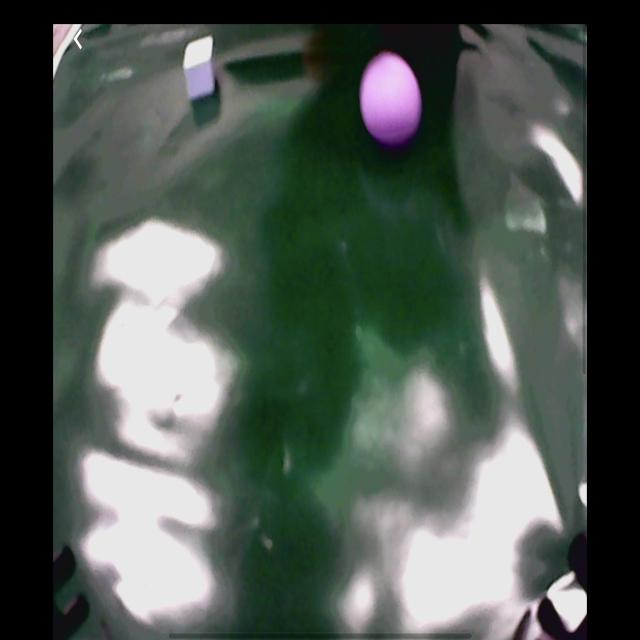ball: (360, 54, 423, 146)
